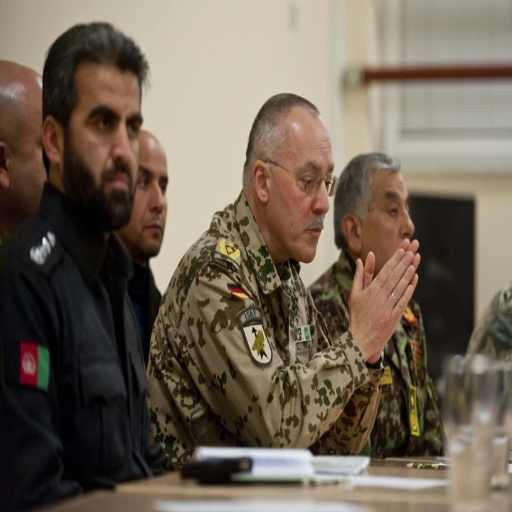hand: (348, 246, 414, 361), (361, 234, 418, 358)
